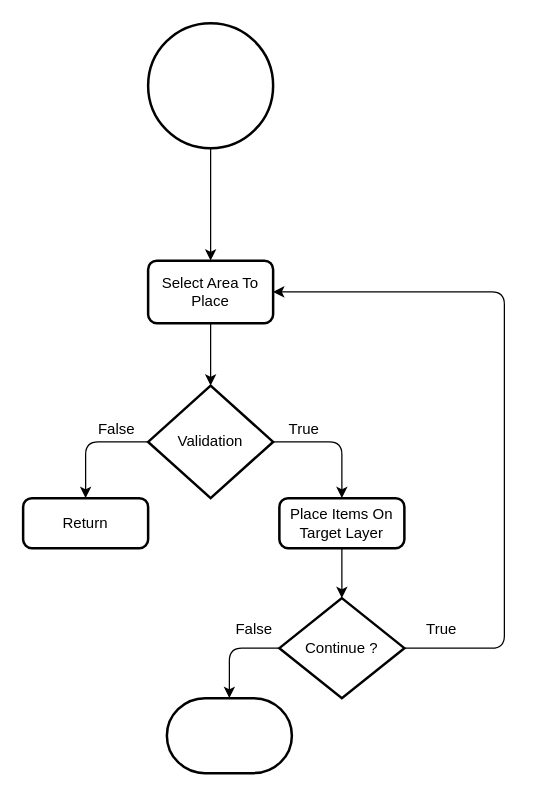
This 536x795 diagram has some shape labels left out. Each missing label, with the centre of its shape:
"Building Item Pressed" belongs at [210,85].
"End Selection" belongs at [228,735].
